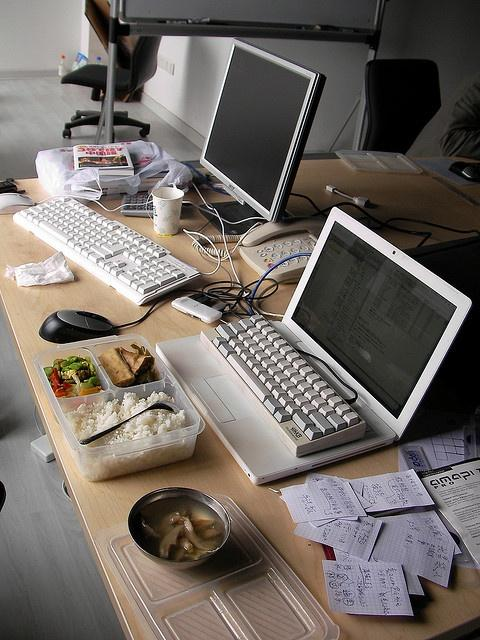AIO PC-Monitor-TV: (196, 37, 327, 236)
